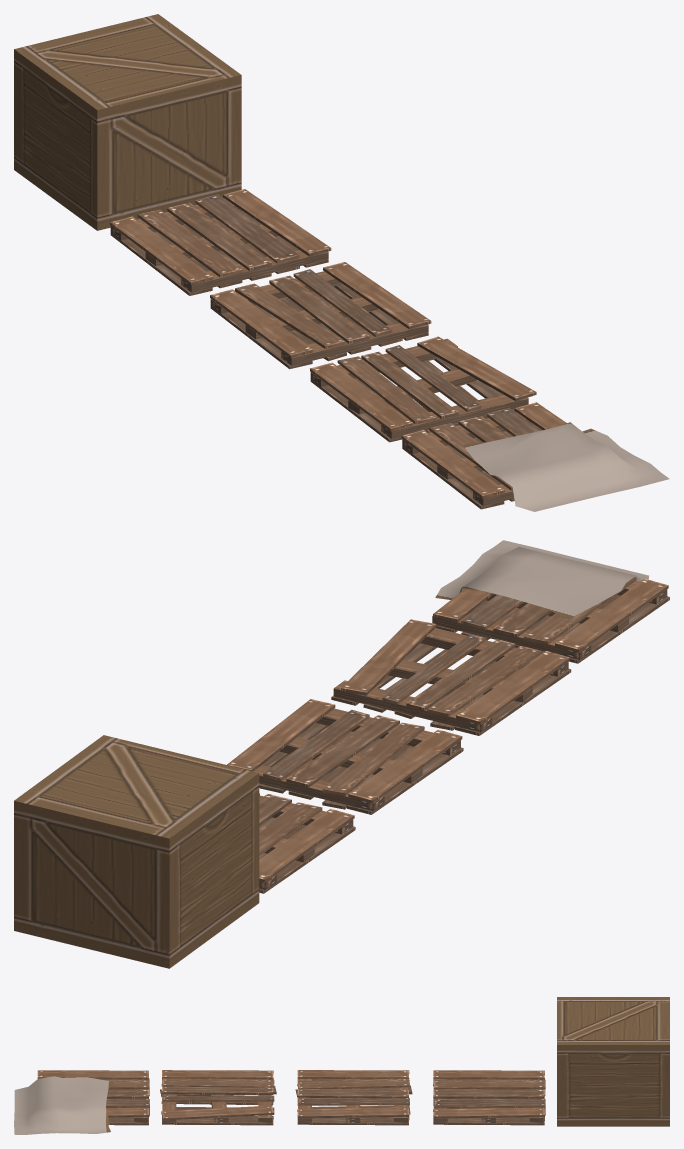
The model's file is Box and Palettes.fbx.
The picture shows the model from 3 angles, top to bottom: view 1: azimuth 30°, elevation 25°; view 2: azimuth 150°, elevation 25°; view 3: azimuth 270°, elevation 25°; orthographic projection. The views are drawn at different scales.
Visible parts, largest first — view 1: Box, Palette04, Palette02, Palette01, Palette03; view 2: Box, Palette04, Palette02, Palette03, Palette01; view 3: Box, Palette04, Palette02, Palette01, Palette03.
Part boxes in pixels (x1,y1,x2,y2): Box: (14, 14, 241, 230); Palette04: (401, 402, 669, 511); Palette02: (210, 262, 431, 369); Palette01: (110, 189, 331, 295); Palette03: (310, 336, 536, 442); Box: (14, 735, 259, 968); Palette04: (432, 540, 669, 663); Palette02: (227, 699, 463, 814); Palette03: (331, 619, 571, 735); Palette01: (259, 793, 355, 893); Box: (557, 997, 669, 1126); Palette04: (14, 1070, 149, 1134); Palette02: (295, 1070, 412, 1125); Palette01: (433, 1070, 545, 1125); Palette03: (160, 1070, 276, 1125).
Bounding box in the file's own units: 240 × 160 × 1160.
